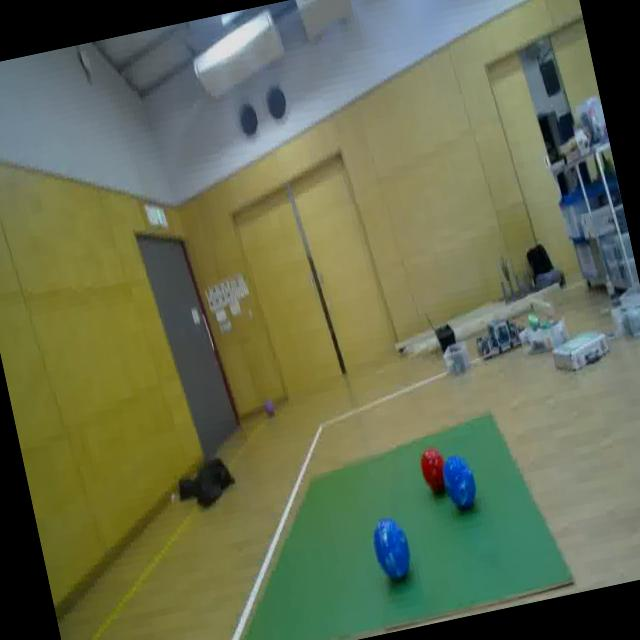blue_ball: (368, 514, 417, 586), (436, 448, 482, 516)
purple_ball: (262, 396, 276, 418)
red_ball: (417, 444, 448, 492)
